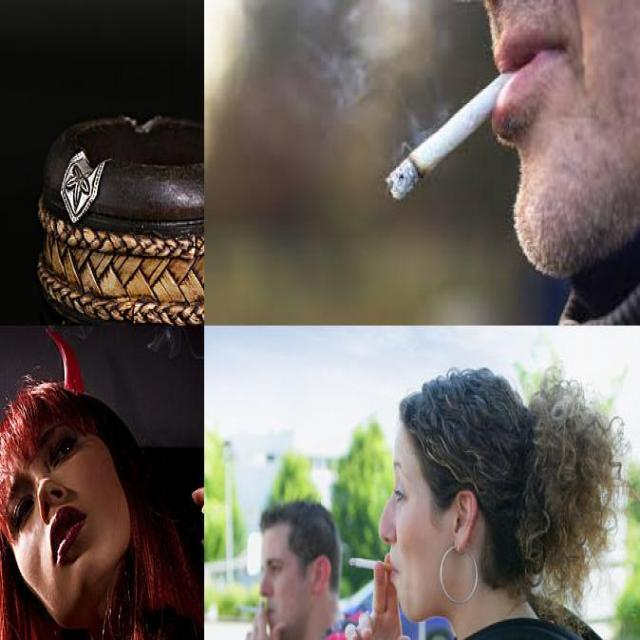cigarette: (386, 61, 532, 202), (347, 546, 397, 592)
